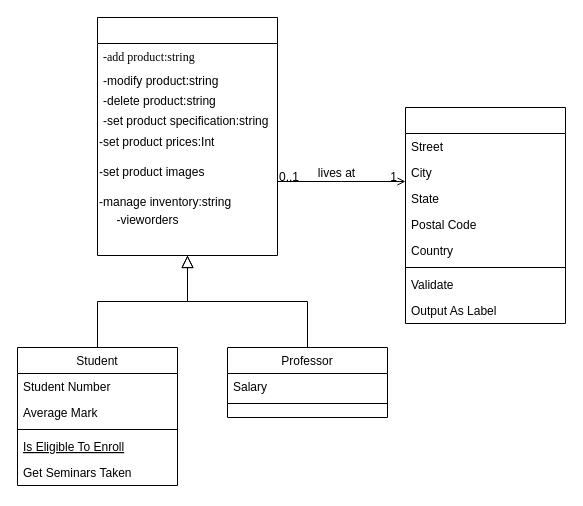
Image size: 583x506. Some labels were removed from this diagram. The shapes that lost their labels are listed below. From the top down, each one's box as (x1, y1, x2, y2) in pixels, then its label:
(96, 16, 278, 256): Admin
(404, 106, 566, 324): Address
